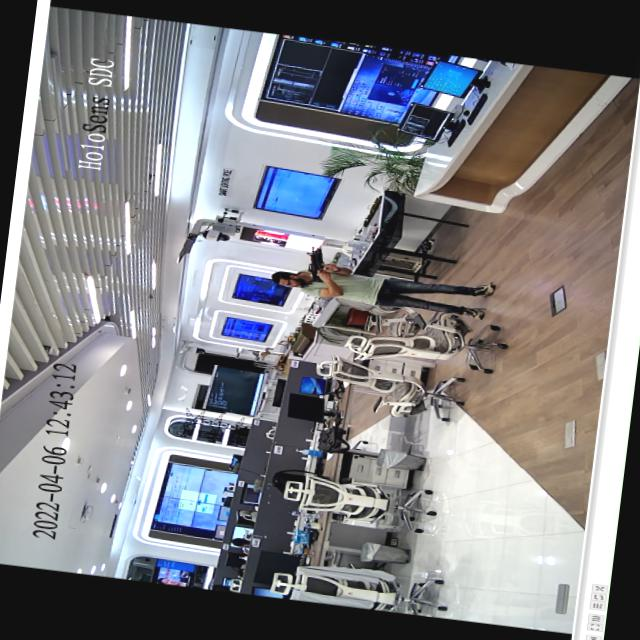long weapon: (300, 242, 342, 284)
